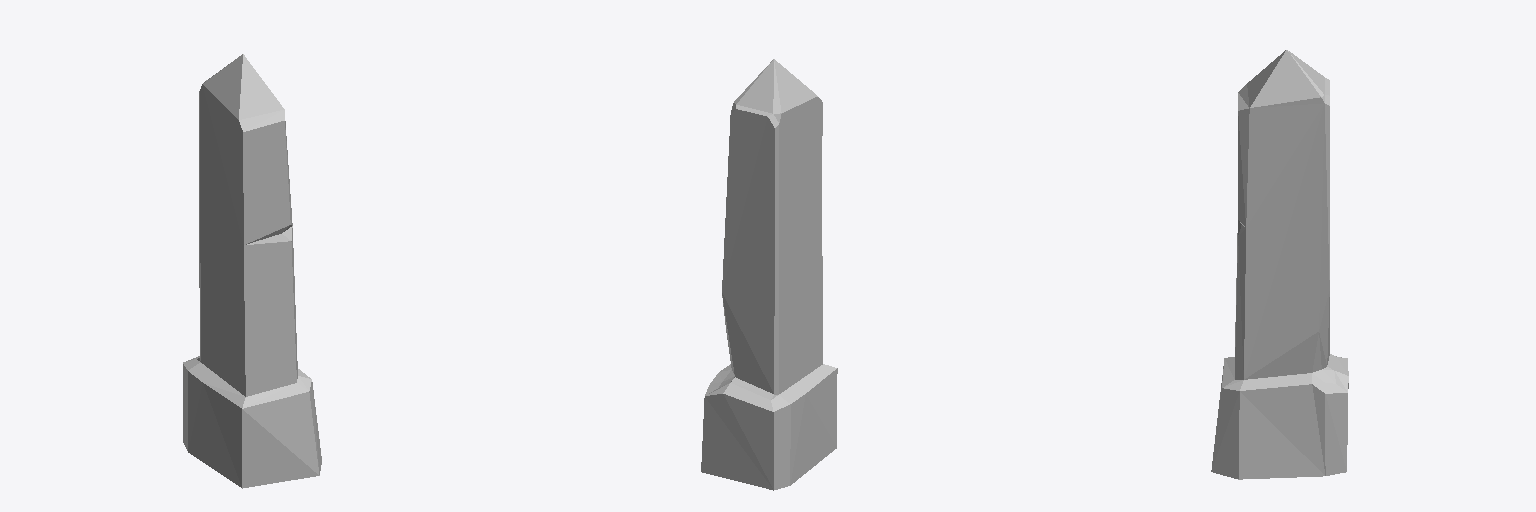
The model's file is landmark--obelisk__02.obj.
3 renders of one model, left to right at view 1: azimuth 30°, elevation 25°; view 2: azimuth 150°, elevation 25°; view 3: azimuth 270°, elevation 25°, orthographic.
Parts seen in each view (by area): view 1: obelisk__02_Cube.011; view 2: obelisk__02_Cube.011; view 3: obelisk__02_Cube.011.
Part boxes in pixels (x1,y1,x2,y2): obelisk__02_Cube.011: (183,54,321,488); obelisk__02_Cube.011: (701,59,837,490); obelisk__02_Cube.011: (1211,50,1348,479).
Bounding box in the file's own units: 1.61 × 6.85 × 2.11.